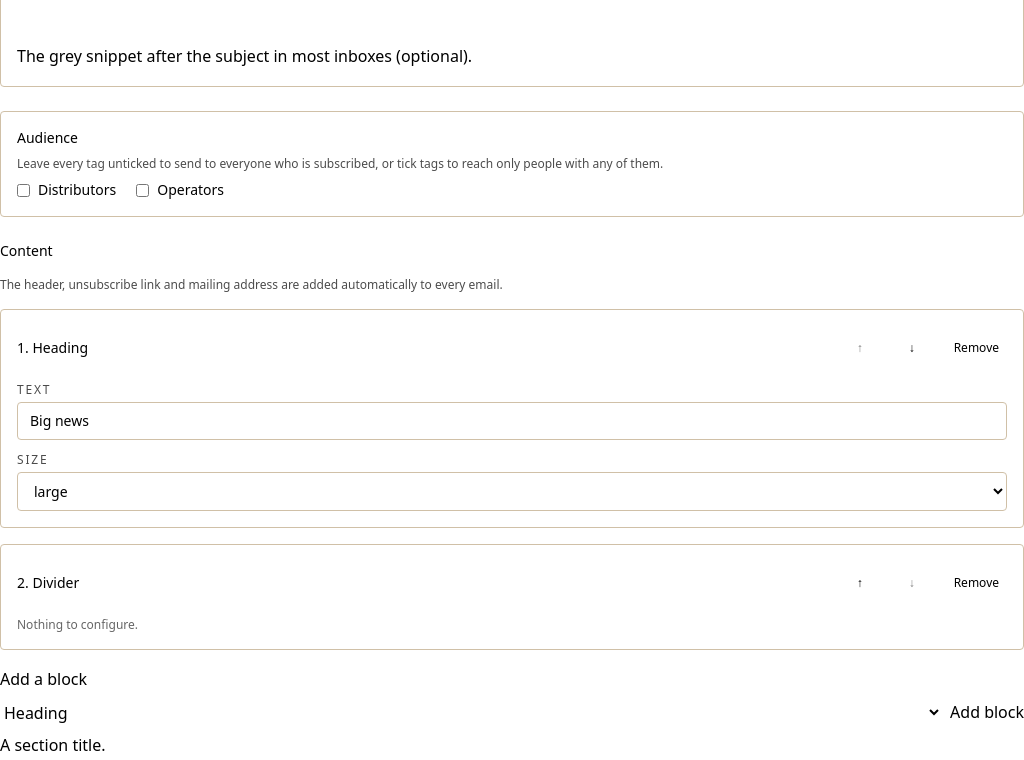
Test case: CampaignEditor › adds a block from the picker, starting from that block's defaults
(page scrolled)
Select "Heading" in the dropdown labelled "Add a block" at (471, 713), box [0,699,942,726]
Click the button "Add block" at (987, 713), box [950,699,1023,726]
(page scrolled)
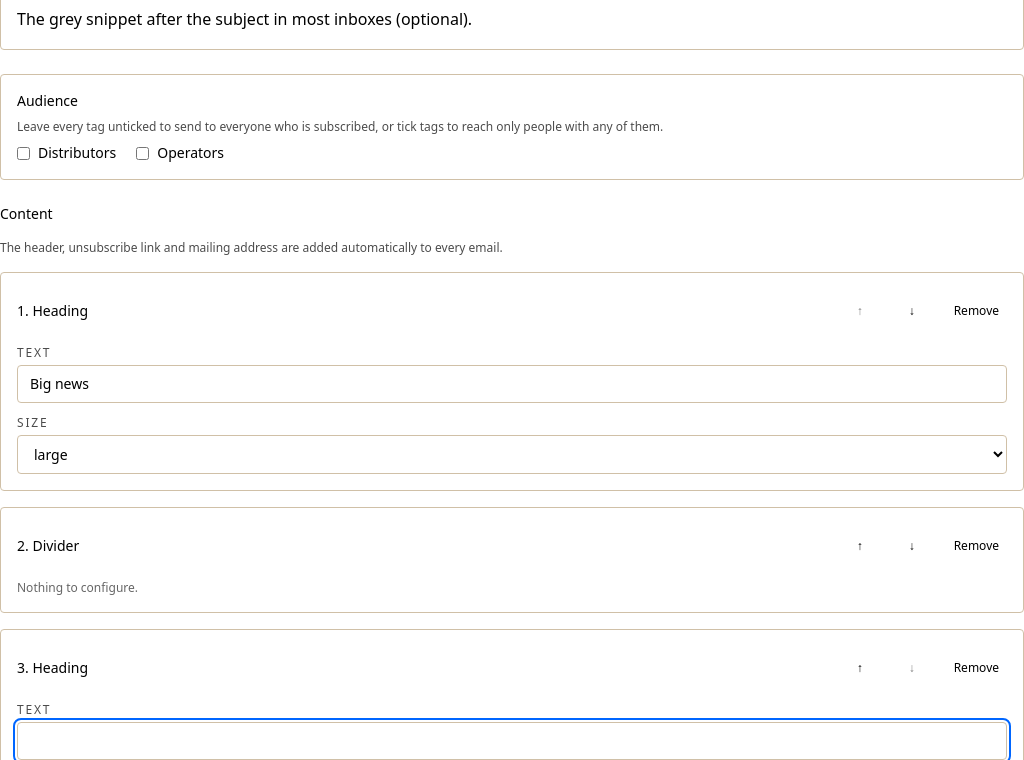
Expected: the heading "3. Heading" is shown, [17,658,88,678]
